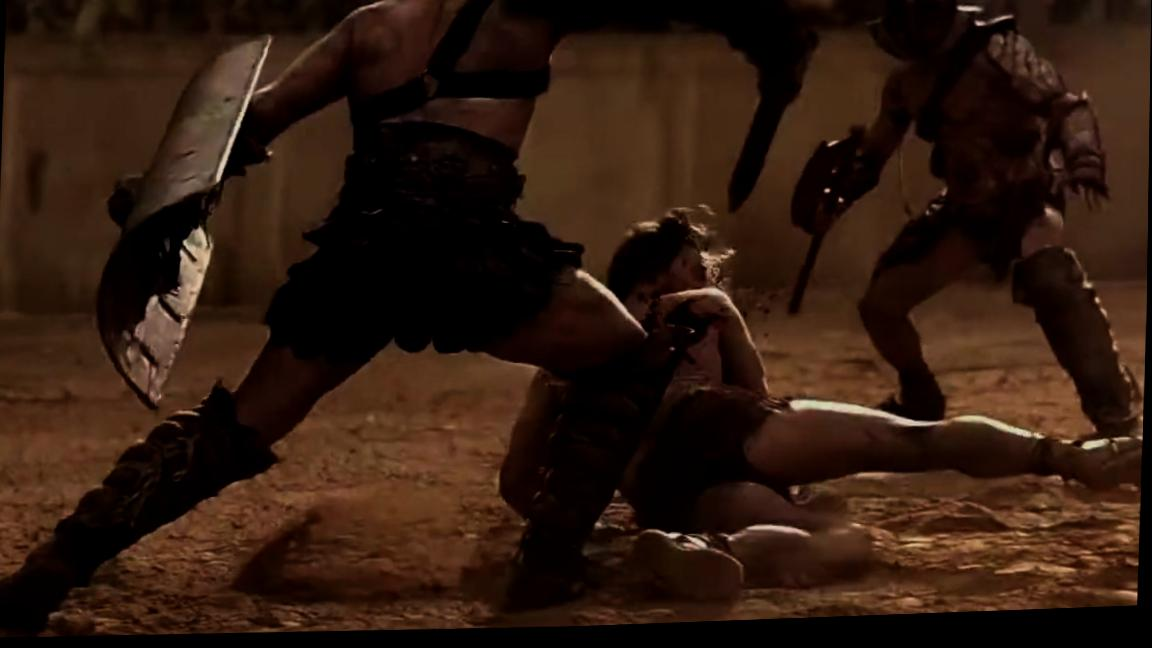Fire: (667, 307, 715, 347)
